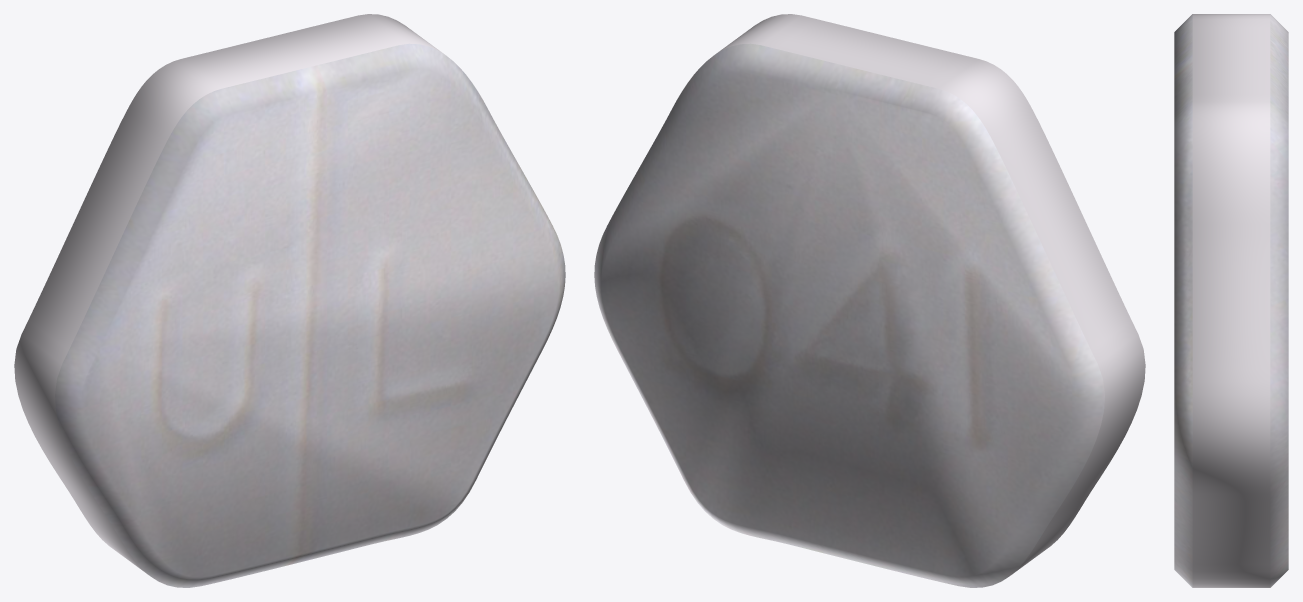
Rendered from 20180315GOPHDRGPT13440.fbx.
3 views of the same model, side by side, from view 1: azimuth 30°, elevation 25°; view 2: azimuth 150°, elevation 25°; view 3: azimuth 270°, elevation 25° (orthographic). The views are drawn at different scales.
Visible parts, largest first — view 1: 貝茲曲線; view 2: 貝茲曲線; view 3: 貝茲曲線.
Part boxes in pixels (left/top/right/bottom): 貝茲曲線: left=14, top=14, right=565, bottom=587; 貝茲曲線: left=594, top=14, right=1145, bottom=587; 貝茲曲線: left=1174, top=14, right=1288, bottom=587.
Size of the model in its own units: 1.14 by 1.06 by 0.2323.
